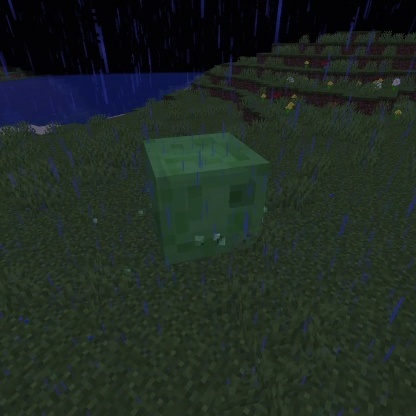slime: (139, 128, 276, 270)
